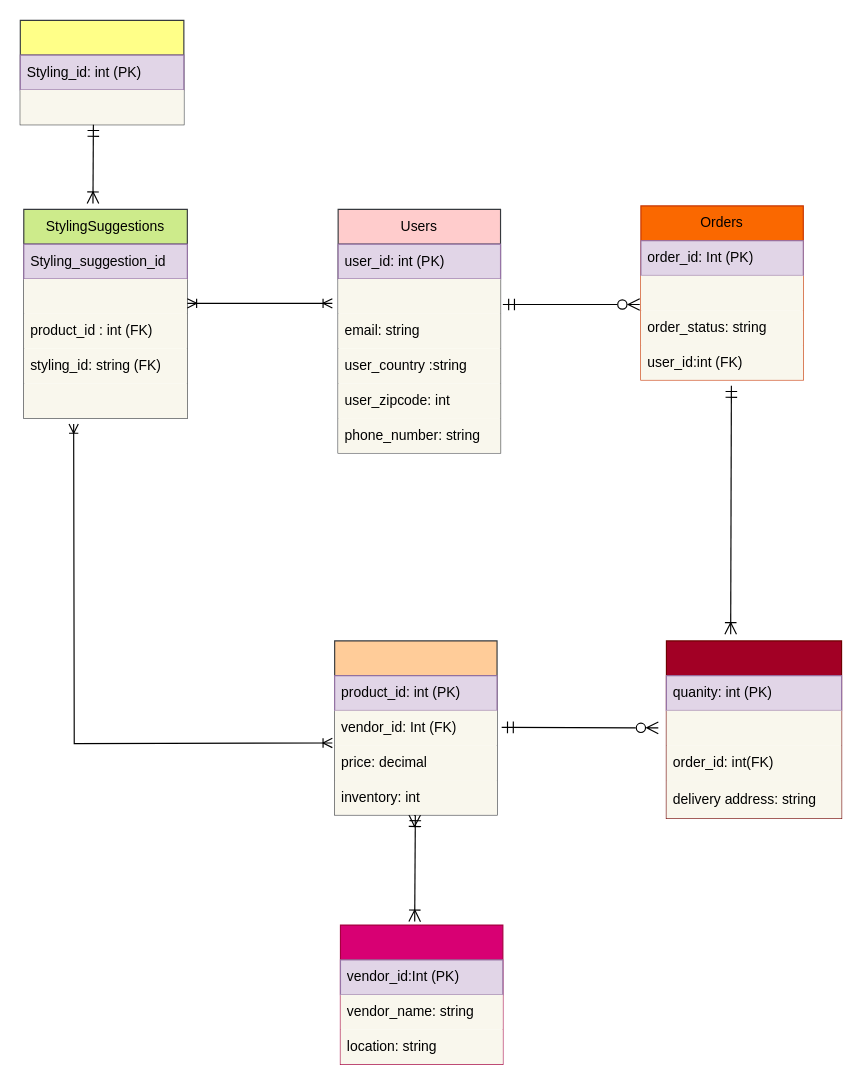
Image size: 862x1085. Some labels were removed from this diagram. The box of each missing label's shape, as (x1, y1, x2, y2) in pixels:
event_details : text (FK): (23, 383, 187, 418)
order_date: date: (640, 275, 803, 310)
OrderDetails: (665, 640, 842, 818)
preference_details: string: (20, 89, 183, 124)
product_id: int (FK): (666, 710, 841, 745)
Products: (334, 640, 497, 815)
StylingPreferences: (19, 19, 184, 125)
user_id: int (FK): (23, 278, 187, 313)
user_name: string: (338, 278, 500, 313)
Vendors: (339, 924, 503, 1064)
